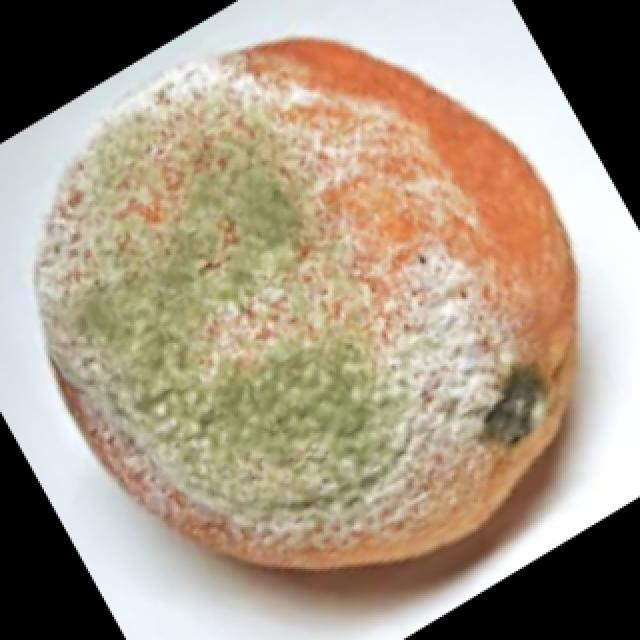sangat-busuk: (35, 38, 576, 570), (36, 64, 548, 530)
